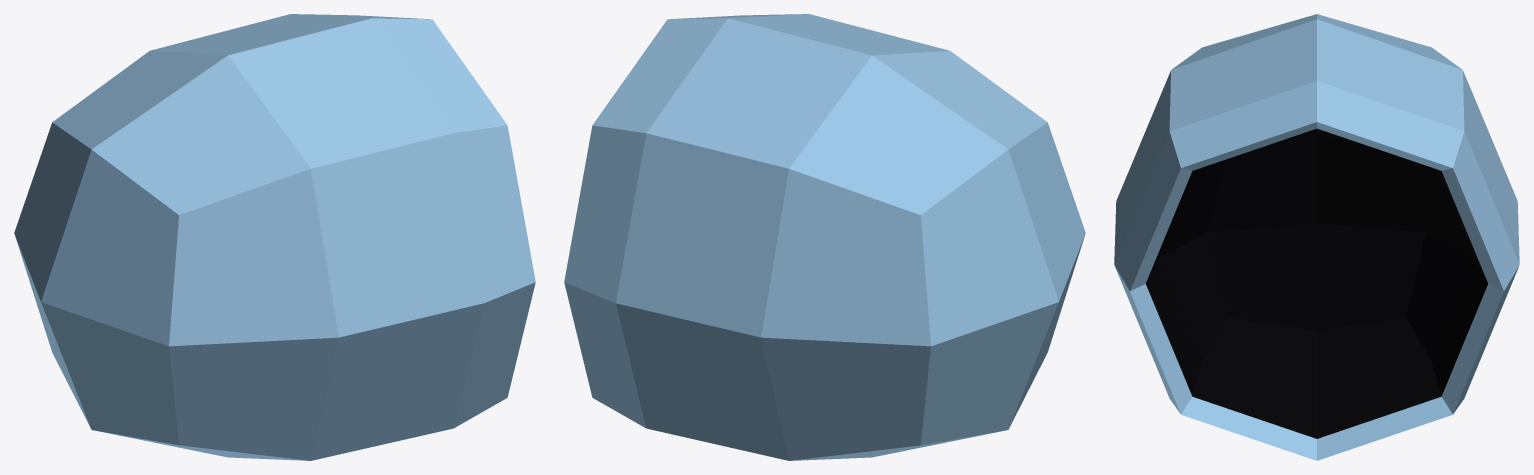
Rendered from Cave_Entrancefbx.fbx.
The picture shows the model from 3 angles, left to right: view 1: azimuth 30°, elevation 25°; view 2: azimuth 150°, elevation 25°; view 3: azimuth 270°, elevation 25°; orthographic projection. The views are drawn at different scales.
Visible parts, largest first — view 1: Cube.049; view 2: Cube.049; view 3: Cube.049.
Boxes of the visible parts, <box> form: Cube.049: <box>14,14,535,460</box>; Cube.049: <box>564,14,1085,460</box>; Cube.049: <box>1114,14,1519,460</box>.
Size of the model in its own units: 654 by 649 by 649.
